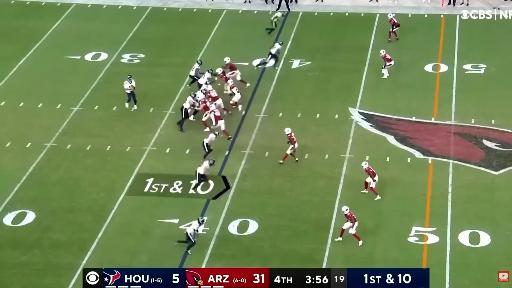Helmet: (284, 128, 292, 135), (342, 206, 349, 214), (198, 217, 205, 225), (379, 49, 386, 56), (208, 159, 215, 166), (190, 93, 197, 100), (196, 59, 202, 66), (216, 68, 223, 74), (210, 104, 216, 110), (362, 162, 368, 168), (224, 57, 230, 63), (227, 79, 233, 85), (206, 85, 213, 90), (127, 75, 132, 81), (201, 88, 206, 93), (214, 131, 219, 136), (207, 69, 213, 73), (205, 81, 210, 85), (388, 14, 393, 18), (278, 42, 283, 46), (282, 12, 286, 15)
Jersey: (196, 161, 210, 175), (183, 95, 196, 109), (186, 220, 200, 233), (210, 110, 222, 125), (198, 72, 211, 84), (207, 90, 219, 102), (124, 80, 135, 93), (365, 166, 376, 179), (200, 98, 210, 112), (345, 212, 357, 223), (270, 43, 282, 54), (204, 134, 217, 144), (218, 71, 229, 82), (190, 63, 199, 76), (287, 133, 296, 145), (389, 18, 399, 28), (230, 85, 240, 95), (271, 12, 282, 21), (382, 54, 392, 63), (226, 63, 237, 71), (196, 91, 205, 100)
Player: (335, 206, 362, 246), (176, 217, 205, 254), (177, 93, 197, 131), (224, 58, 250, 87), (210, 105, 231, 139), (192, 159, 215, 190), (362, 162, 381, 199), (256, 42, 283, 68), (207, 85, 230, 114), (279, 128, 298, 163), (265, 11, 286, 35), (198, 89, 210, 131), (190, 89, 205, 121), (203, 131, 219, 159), (124, 75, 137, 109), (228, 79, 242, 110), (380, 50, 394, 78), (387, 13, 400, 42), (188, 60, 202, 86), (216, 68, 230, 93), (198, 69, 213, 89)
